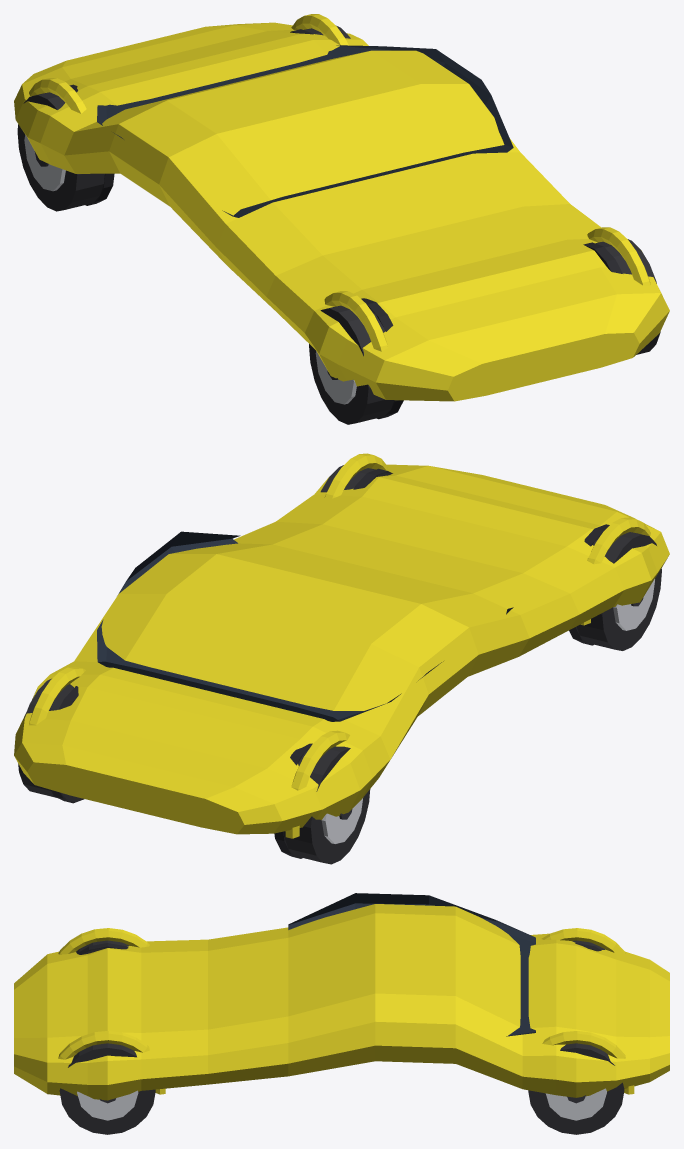
File: pickup.glb
3 views of the same model, one above another, from view 1: azimuth 30°, elevation 25°; view 2: azimuth 150°, elevation 25°; view 3: azimuth 270°, elevation 25° (orthographic). The views are drawn at different scales.
Parts seen in each view (by area): view 1: body, glass_canopy, wheel_front_tyre.001, wheel_rear_tyre.001, body_arch.001, body_arch, wheel_rear_rim.001, body_arch.003, wheel_front_rim.001, body_arch.002, wheel_front_tyre; view 2: body, glass_canopy, wheel_rear_tyre.001, wheel_front_tyre.001, body_arch.003, body_arch.001, body_arch.002, body_arch, wheel_rear_rim.001, wheel_front_rim.001, wheel_rear_tyre; view 3: body, glass_canopy, wheel_front_tyre, wheel_rear_tyre, body_arch, wheel_rear_rim, body_arch.001, body_arch.002, wheel_front_rim, body_arch.003.
Boxes of the visible parts, box(x1,y1,x2,y2) form: body: box(14, 22, 669, 401); glass_canopy: box(97, 45, 513, 217); wheel_front_tyre.001: box(309, 305, 394, 424); wheel_rear_tyre.001: box(17, 92, 104, 211); body_arch.001: box(324, 291, 387, 351); body_arch: box(587, 227, 650, 285); wheel_rear_rim.001: box(24, 135, 65, 191); body_arch.003: box(29, 78, 86, 113); wheel_front_rim.001: box(315, 351, 356, 404); body_arch.002: box(291, 14, 348, 45); wheel_front_tyre: box(590, 239, 660, 354); body: box(14, 464, 669, 834); glass_canopy: box(97, 531, 513, 721); wheel_rear_tyre.001: box(283, 746, 370, 864); wheel_front_tyre.001: box(576, 532, 661, 650); body_arch.003: box(285, 730, 349, 838); body_arch.001: box(580, 517, 650, 625); body_arch.002: box(29, 666, 85, 725); body_arch: box(324, 453, 387, 498); wheel_rear_rim.001: box(321, 798, 362, 843); wheel_front_rim.001: box(613, 579, 654, 630); wheel_rear_tyre: box(18, 678, 82, 801); body: box(14, 904, 669, 1100); glass_canopy: box(288, 893, 535, 1036); wheel_front_tyre: box(59, 1043, 155, 1134); wheel_rear_tyre: box(528, 1043, 624, 1134); body_arch: box(58, 1031, 165, 1094); wheel_rear_rim: box(545, 1088, 606, 1120); body_arch.001: box(58, 928, 149, 954); body_arch.002: box(542, 1031, 634, 1094); wheel_front_rim: box(77, 1090, 138, 1120); body_arch.003: box(541, 928, 625, 954).
Bounding box in the file's own units: 2.12 × 1.01 × 4.51.
